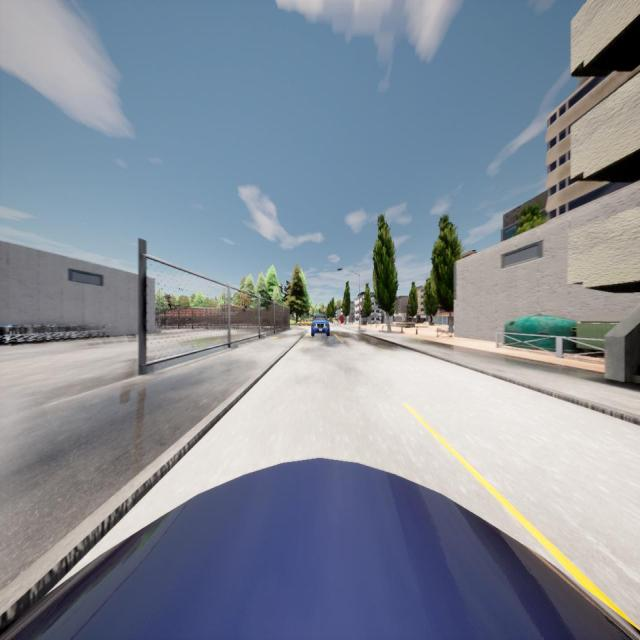Vehicle: (0, 460, 640, 640), (311, 316, 329, 336), (296, 320, 312, 326)
traffic_light: (360, 307, 362, 315)
